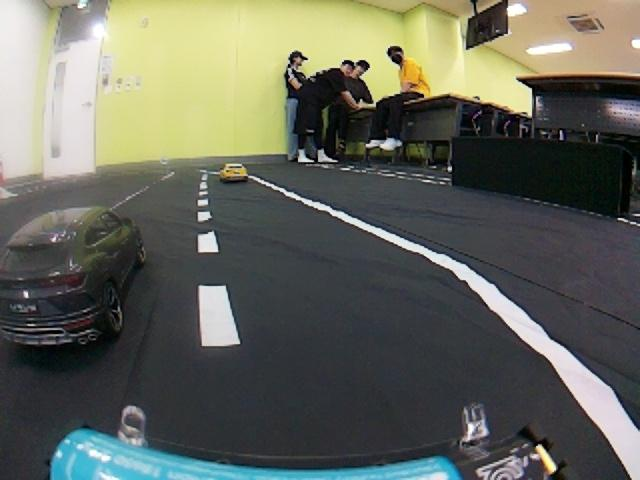objects: (11, 156, 581, 480)
